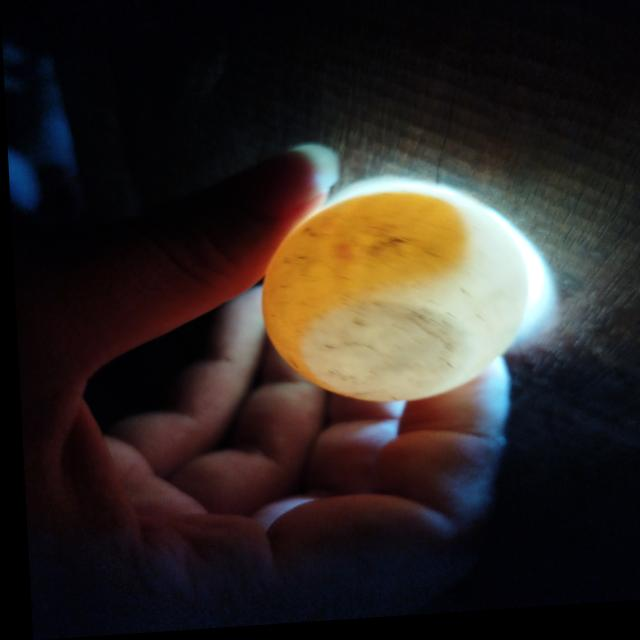Camara de Ar: (295, 306, 453, 404)
